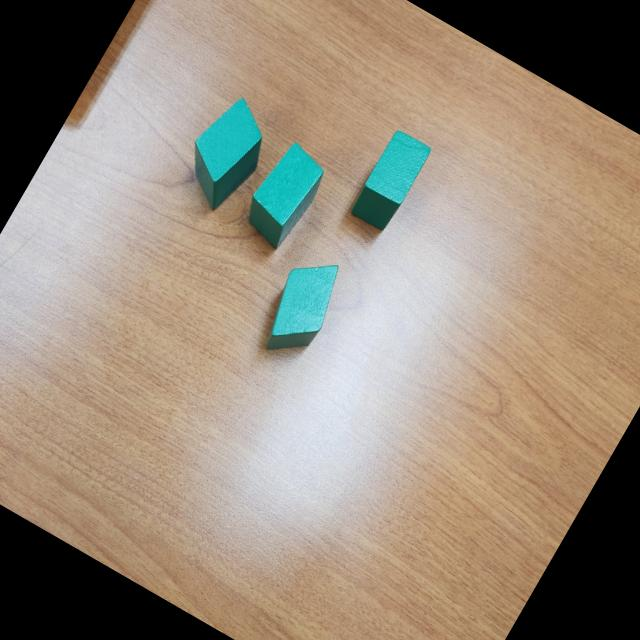green: (168, 89, 284, 220), (250, 247, 353, 368), (235, 138, 334, 254), (346, 127, 434, 235)
